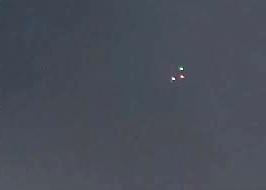Plane: (159, 58, 196, 88)
